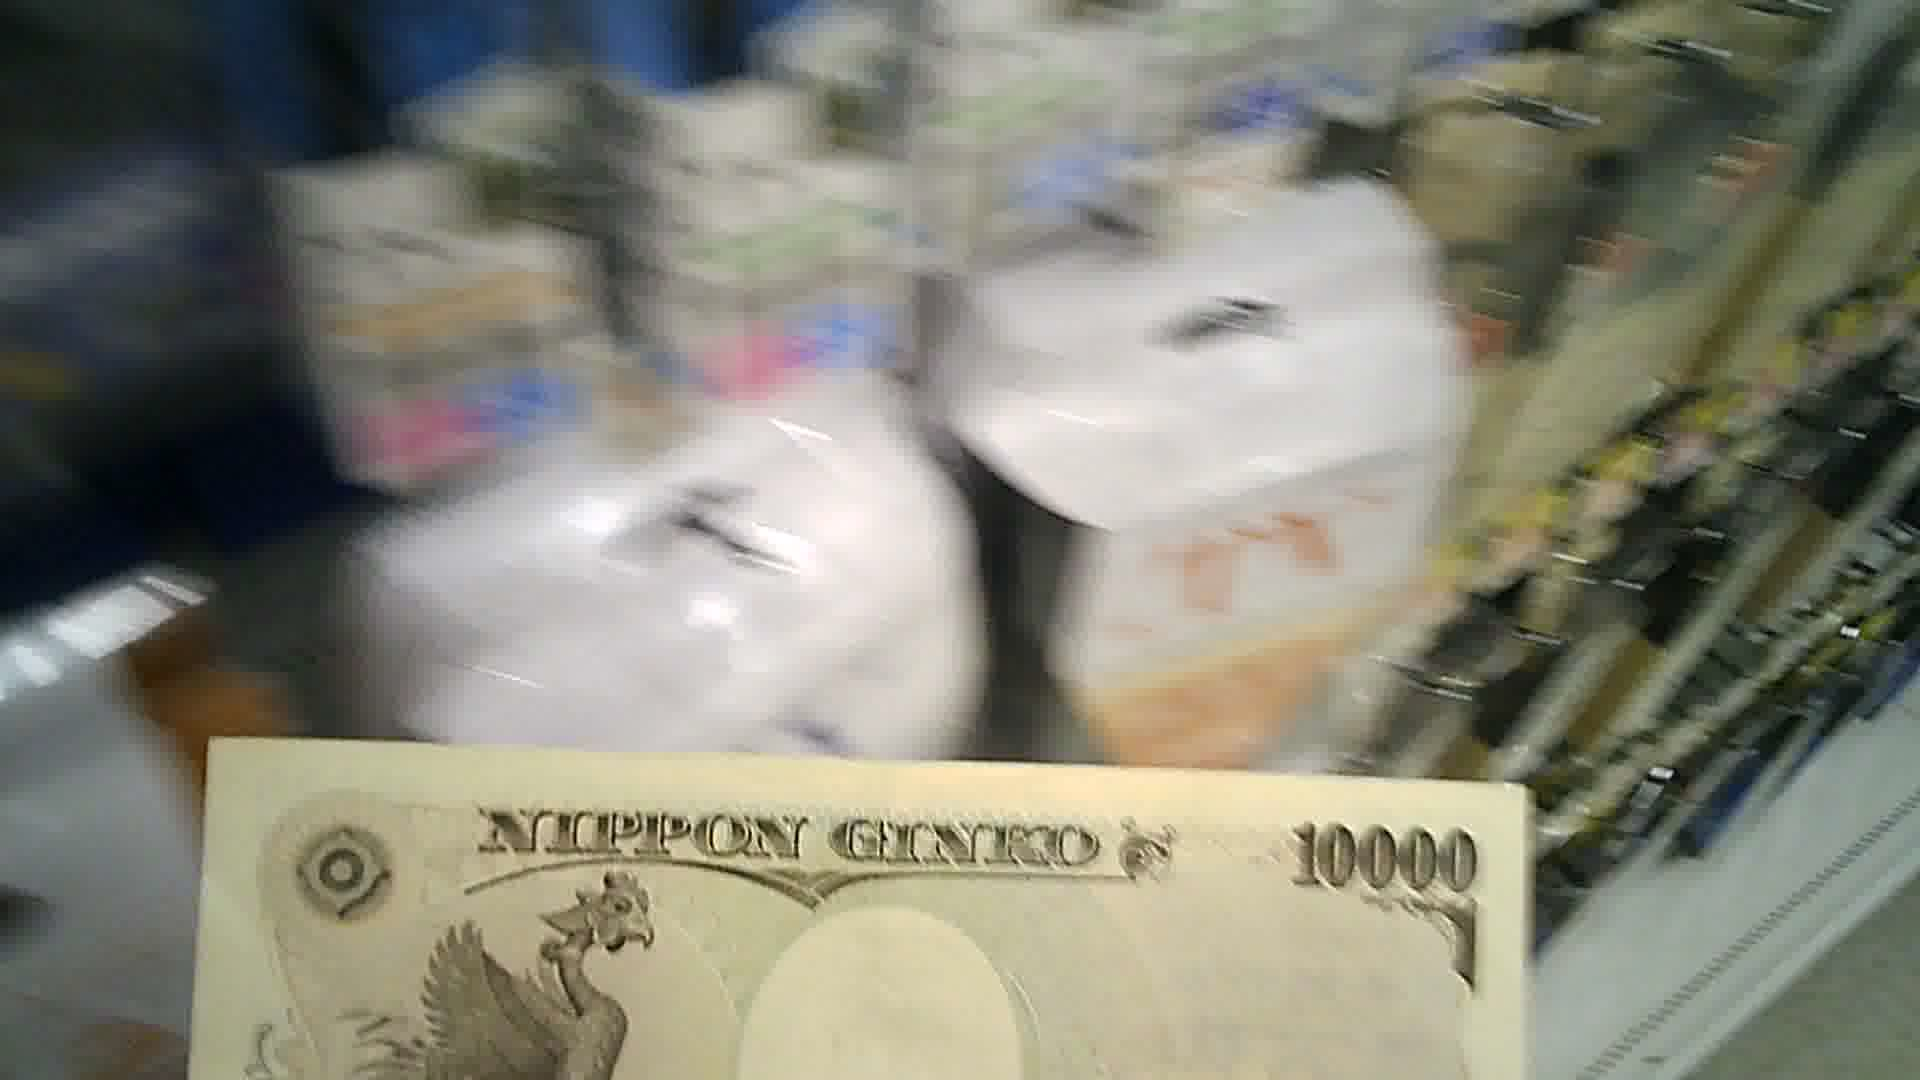10,000 Yen: (183, 719, 1557, 1079)
